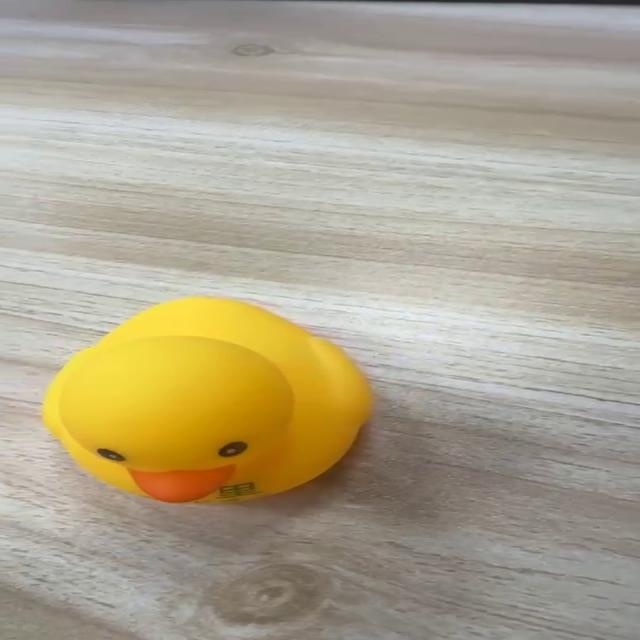yellow_duck: (39, 294, 373, 505)
